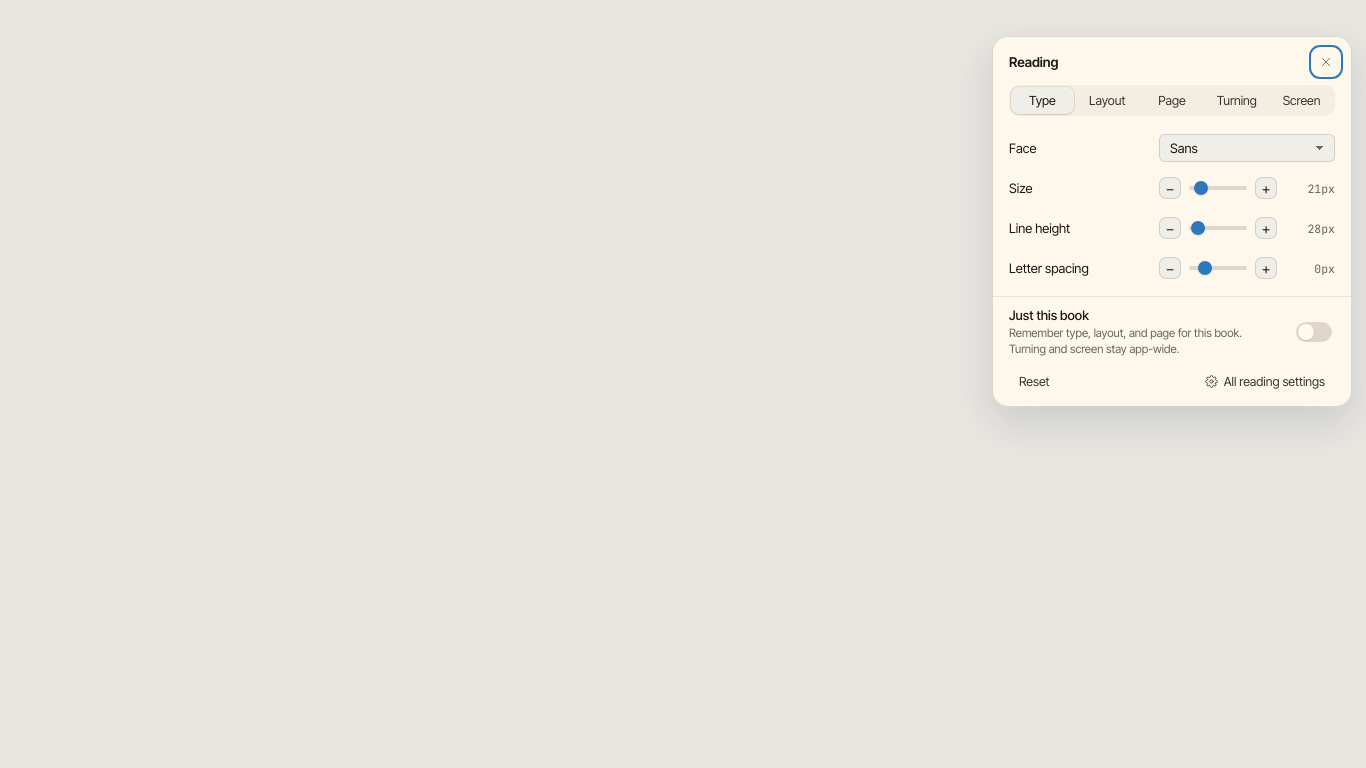
Test: the reading panel over a book › resets what a book can hold, and leaves a global habit alone
The image size is (1366, 768).
Click the button with class "rp-reset" at (1034, 382), box [1009,369,1060,394]
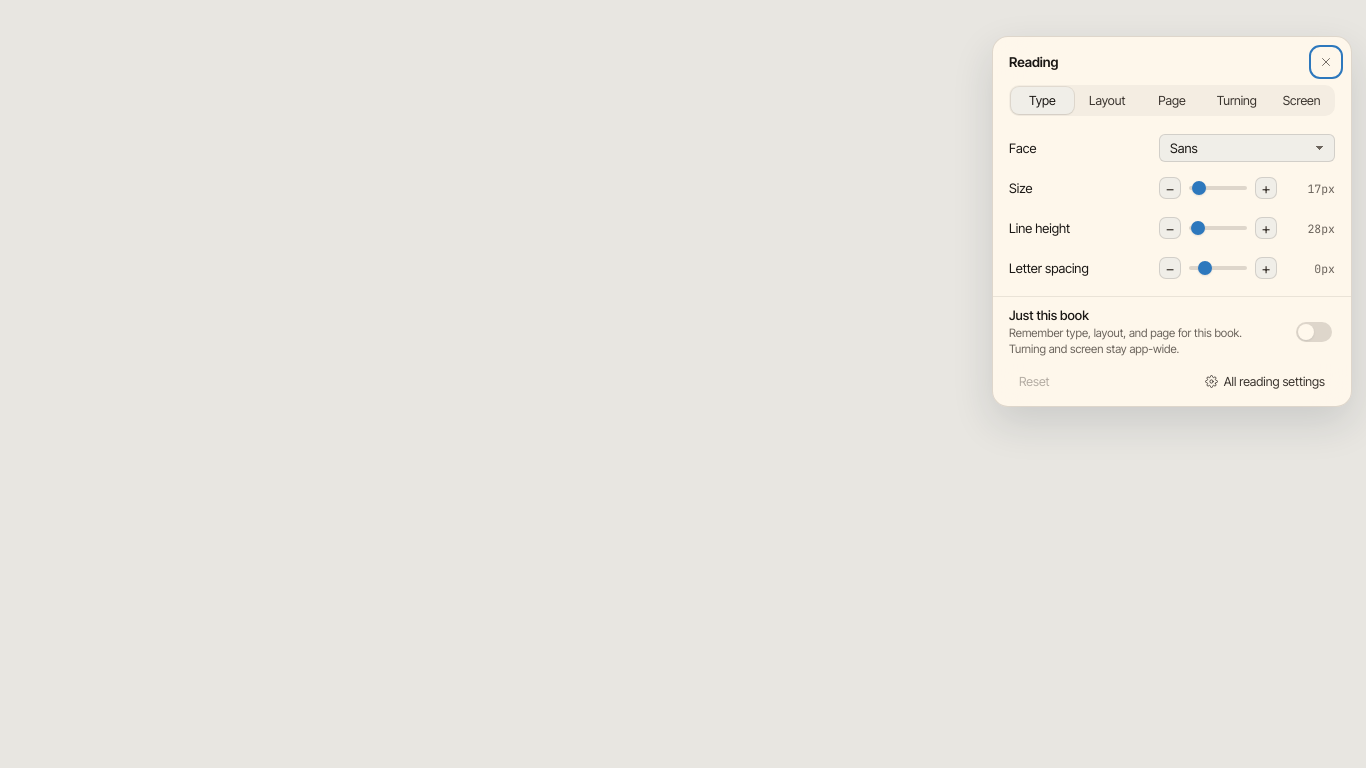
Check: the button with class "rp-reset" is disabled, box [1009,369,1060,394]
